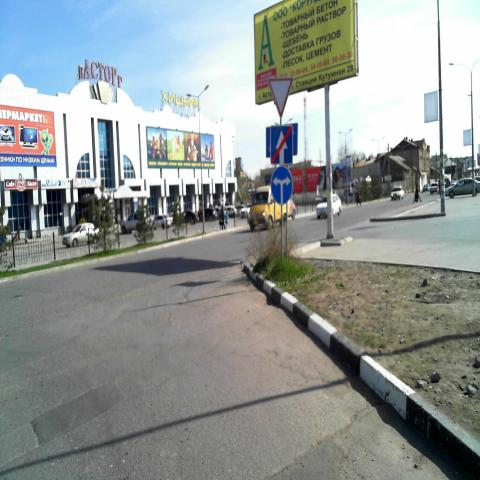4_1_6: (271, 167, 293, 205)
5_6: (270, 125, 293, 165)
